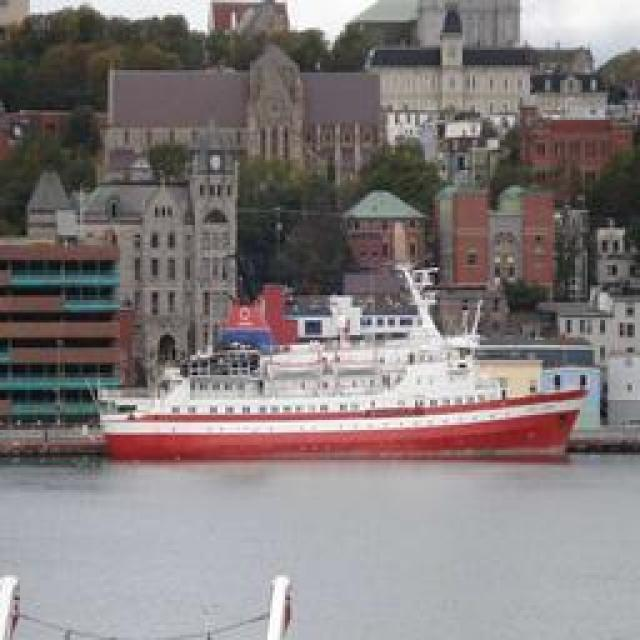CIV_Ship: (94, 251, 594, 461)
